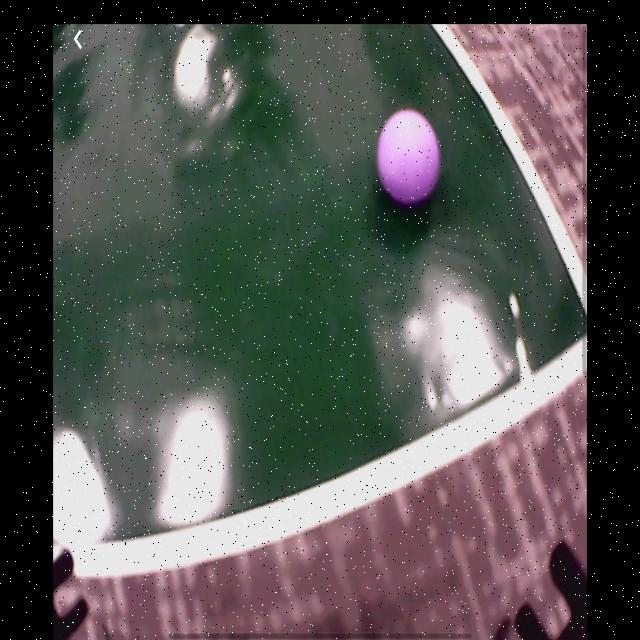ball: (378, 111, 440, 202)
